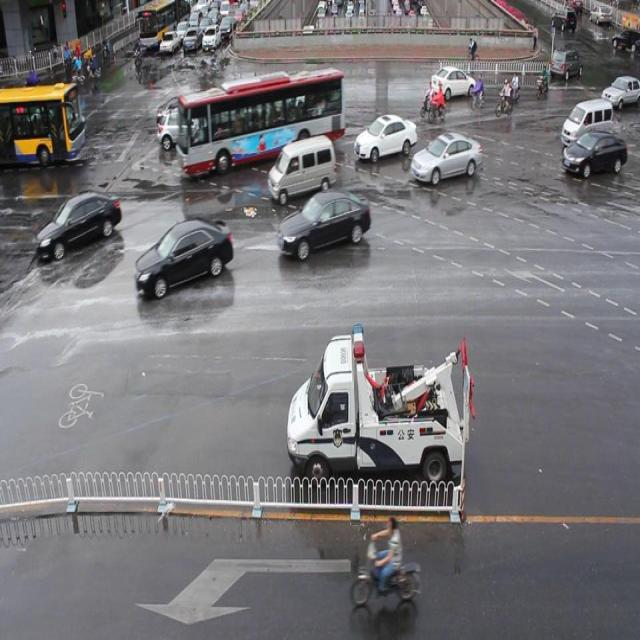bus: (286, 320, 475, 486)
car: (135, 219, 232, 297), (277, 192, 371, 258), (34, 192, 121, 256), (410, 130, 481, 182), (559, 126, 626, 176), (354, 110, 416, 159), (276, 76, 328, 117), (157, 108, 210, 146), (155, 93, 209, 129), (431, 64, 475, 100)
truck: (268, 137, 336, 202), (559, 99, 612, 146)
van: (176, 70, 343, 169)
